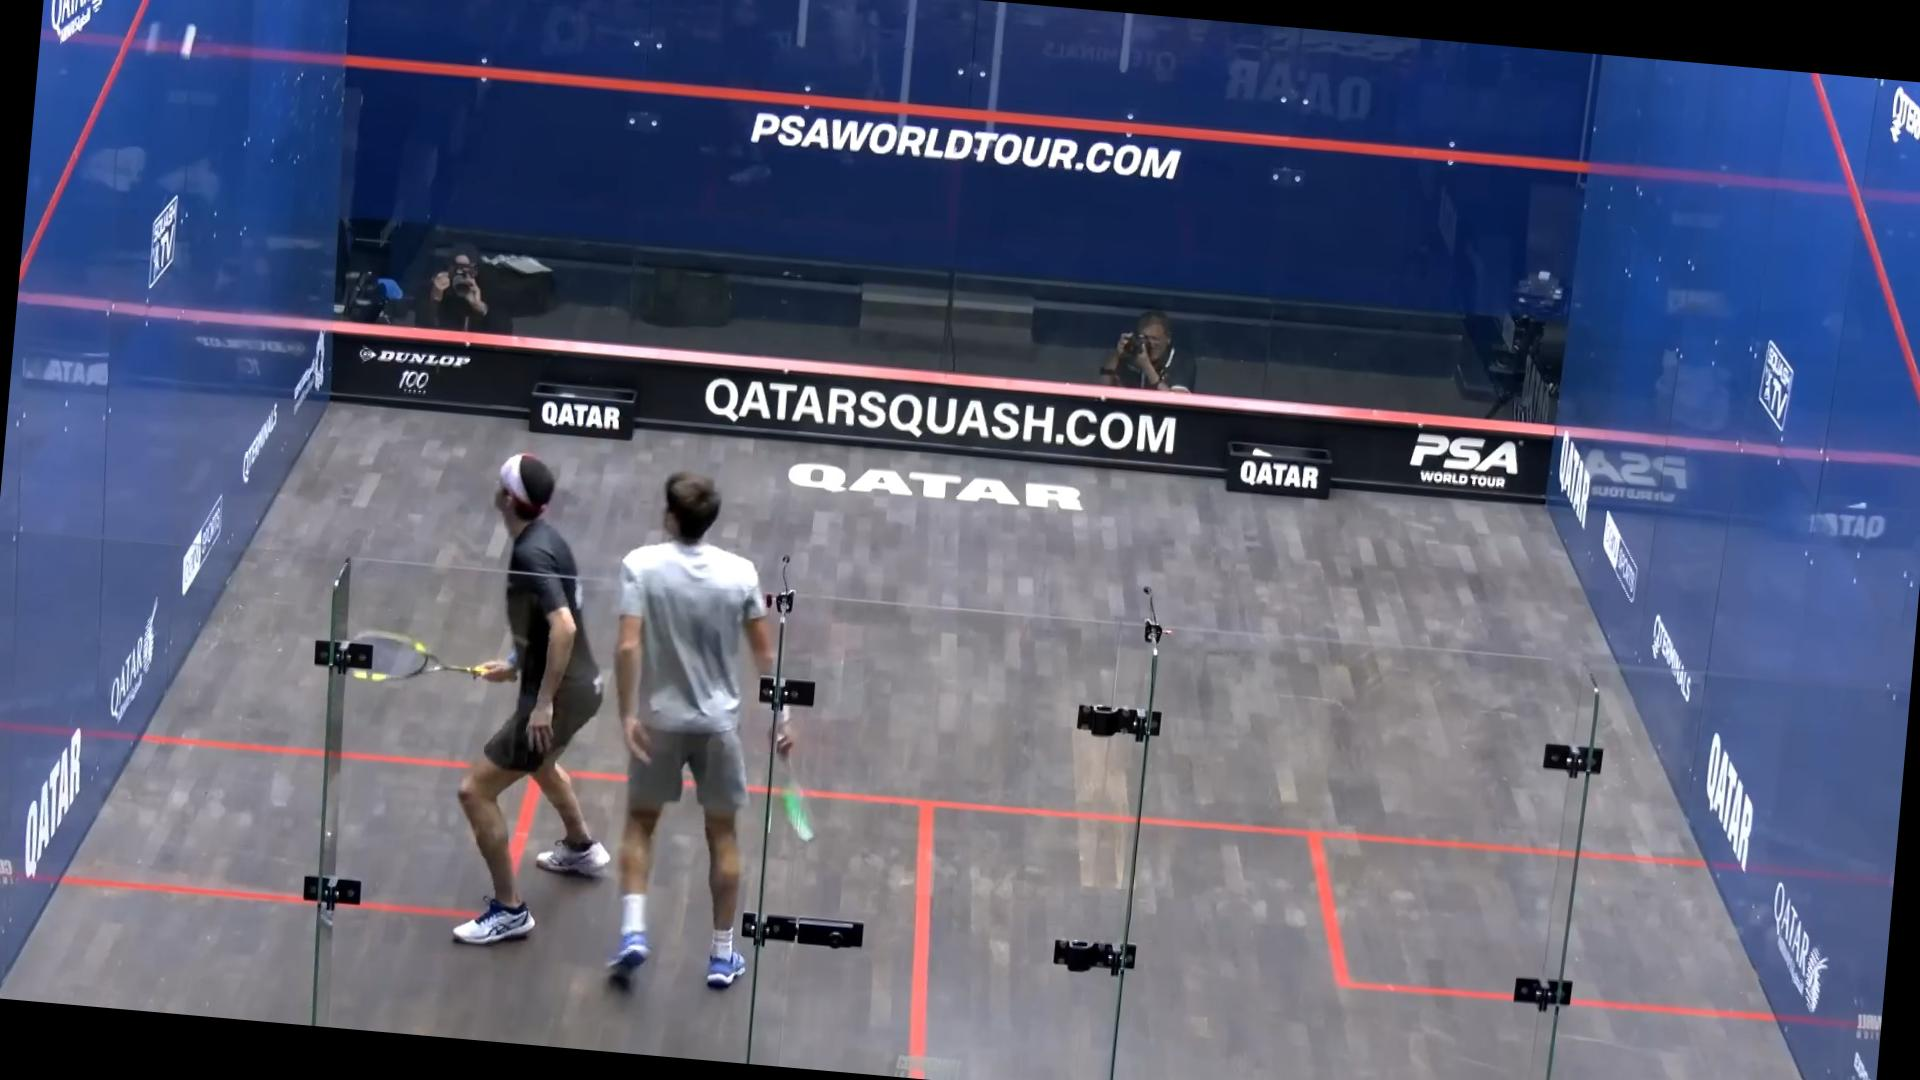Racket: (339, 618, 493, 702)
